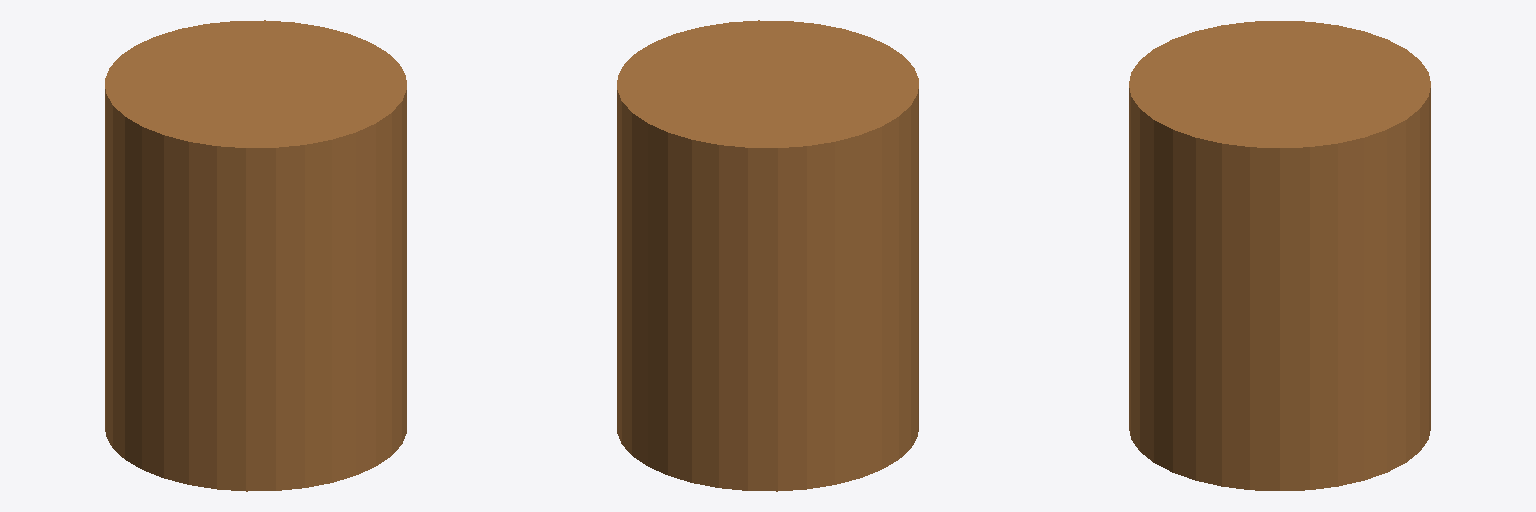
URDF robot description (mug):
<?xml version="1.0"?>
<robot name="mug">
  <link name="base"/>
  <link name="base1"/>
  <link name="base2"/>
  <link name="base3"/>
  <link name="base4"/>
  <link name="base5"/>
  <joint name="x_joint" type="prismatic">
    <origin xyz="0 0 0" rpy="0 0 0"/>
    <parent link="base"/>
    <child link="base1"/>
    <axis xyz="1 0 0"/>
    <limit effort="1" lower="-20.0" upper="20.0" velocity="1"/>
  </joint>

  <joint name="y_joint" type="prismatic">
    <origin xyz="0 0 0" rpy="0 0 0"/>
    <parent link="base1"/>
    <child link="base2"/>
    <axis xyz="0 1 0"/>
    <limit effort="1" lower="-20.0" upper="20.0" velocity="1"/>
  </joint>

  <joint name="z_joint" type="prismatic">
    <origin xyz="0 0 0" rpy="0 0 0"/>
    <parent link="base2"/>
    <child link="base3"/>
    <axis xyz="0 0 1"/>
    <limit effort="1" lower="-20.0" upper="20.0" velocity="1"/>
  </joint>
  <joint name="rx_joint" type="revolute">
    <origin xyz="0 0 0" rpy="0 0 0"/>
    <parent link="base3"/>
    <child link="base4"/>
    <axis xyz="1 0 0"/>
    <limit effort="12" lower="-2.8973" upper="2.8973" velocity="2.6100"/>
  </joint>
  <joint name="ry_joint" type="revolute">
    <origin xyz="0 0 0" rpy="0 0 0"/>
    <parent link="base4"/>
    <child link="base5"/>
    <axis xyz="0 1 0"/>
    <limit effort="12" lower="-2.8973" upper="2.8973" velocity="2.6100"/>
  </joint>
  <joint name="rz_joint" type="revolute">
    <origin xyz="0 0 0" rpy="0 0 0"/>
    <parent link="base5"/>
    <child link="mug"/>
    <axis xyz="0 0 1"/>
    <limit effort="12" lower="-2.8973" upper="2.8973" velocity="2.6100"/>
  </joint>

  <link name="mug">
    <visual>
      <origin xyz="0.0 0.0 0.0"/>
      <geometry>
        <cylinder radius="0.16" length="0.4"/>
      </geometry>
      <material name="light_brown">
        <color rgba="0.7 0.5 0.3 1.0"/> <!-- 淡棕色的RGBA值 -->
      </material>
    </visual>
    <collision>
      <origin xyz="0.0 0.0 0.0"/>
      <geometry>
        <mesh filename="mug.obj" scale="2 2 2"/>
      </geometry>
    </collision>
    <inertial>
      <mass value="0.0"/>
      <inertia ixx="0.0001" ixy="0.0" ixz="0.0" iyy="0.0001" iyz="0.0" izz="0.0001"/>
    </inertial>
  </link>
</robot>

--- Facts derived from the render (not from the file) ---
The picture shows the robot from 3 angles, left to right: view 1: azimuth 30°, elevation 25°; view 2: azimuth 150°, elevation 25°; view 3: azimuth 270°, elevation 25°; orthographic projection.
Robot: mug — 7 links, 6 joints (3 revolute, 3 prismatic); root link base; default pose: every joint at zero.
Links seen in each view (by area): view 1: mug; view 2: mug; view 3: mug.
Boxes of the visible links, left/top/right/bottom form: mug: left=105, top=20, right=406, bottom=491; mug: left=617, top=20, right=918, bottom=491; mug: left=1129, top=21, right=1430, bottom=490.
Size in the robot's own frame: 0.32 by 0.32 by 0.4 metres.
Geometry: primitives only (box / cylinder / sphere), no mesh files.
